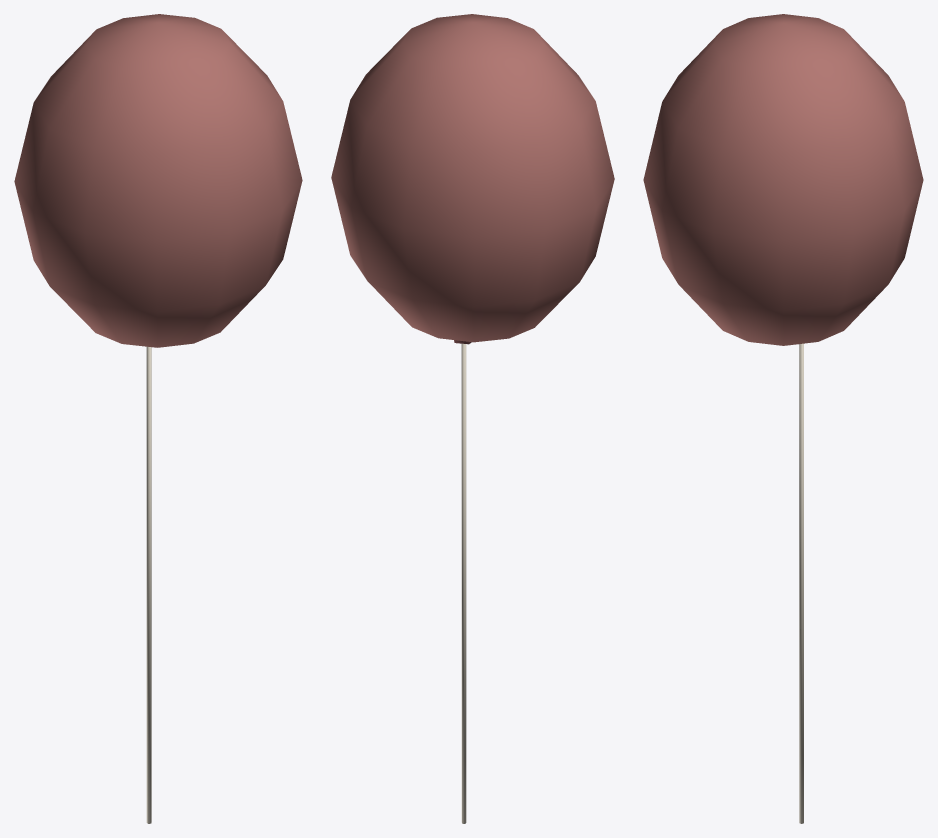
File: wear_balloon.glb
The picture shows the model from 3 angles, left to right: view 1: azimuth 30°, elevation 25°; view 2: azimuth 150°, elevation 25°; view 3: azimuth 270°, elevation 25°; orthographic projection.
Parts seen in each view (by area): view 1: Balloon, Item; view 2: Balloon, Item; view 3: Balloon, Item.
Part boxes in pixels (left/top/right/bottom): Balloon: left=14, top=14, right=302, bottom=347; Item: left=146, top=346, right=151, bottom=823; Balloon: left=331, top=14, right=614, bottom=344; Item: left=461, top=343, right=466, bottom=823; Balloon: left=643, top=14, right=923, bottom=345; Item: left=799, top=343, right=803, bottom=823.
Bounding box in the file's own units: 0.316 × 0.97 × 0.308.
